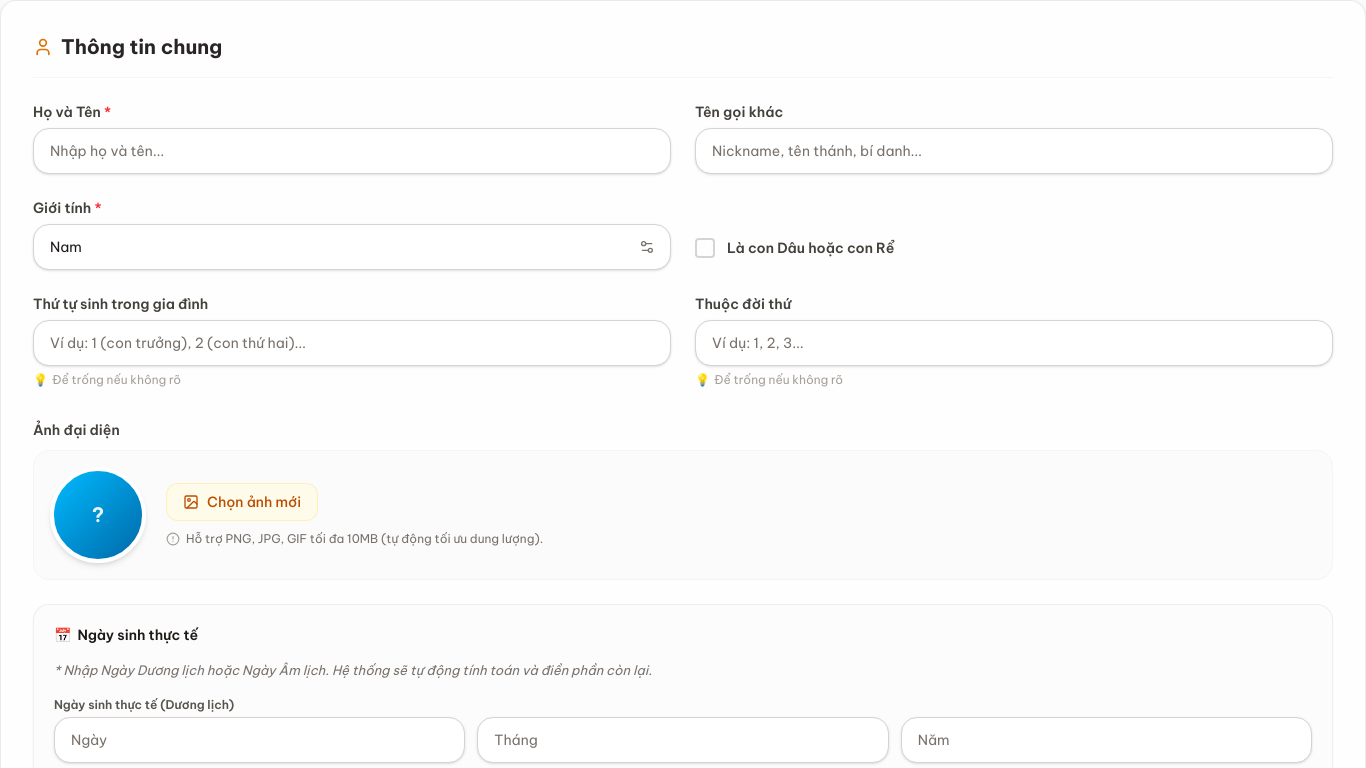
Test: MemberForm › validation › ngày sinh không hợp lệ (ngày 32) → hiện lỗi
The image size is (1366, 768).
Type "Test" into the field with placeholder "Nhập họ và tên..." at (352, 151), box [33,128,671,174]
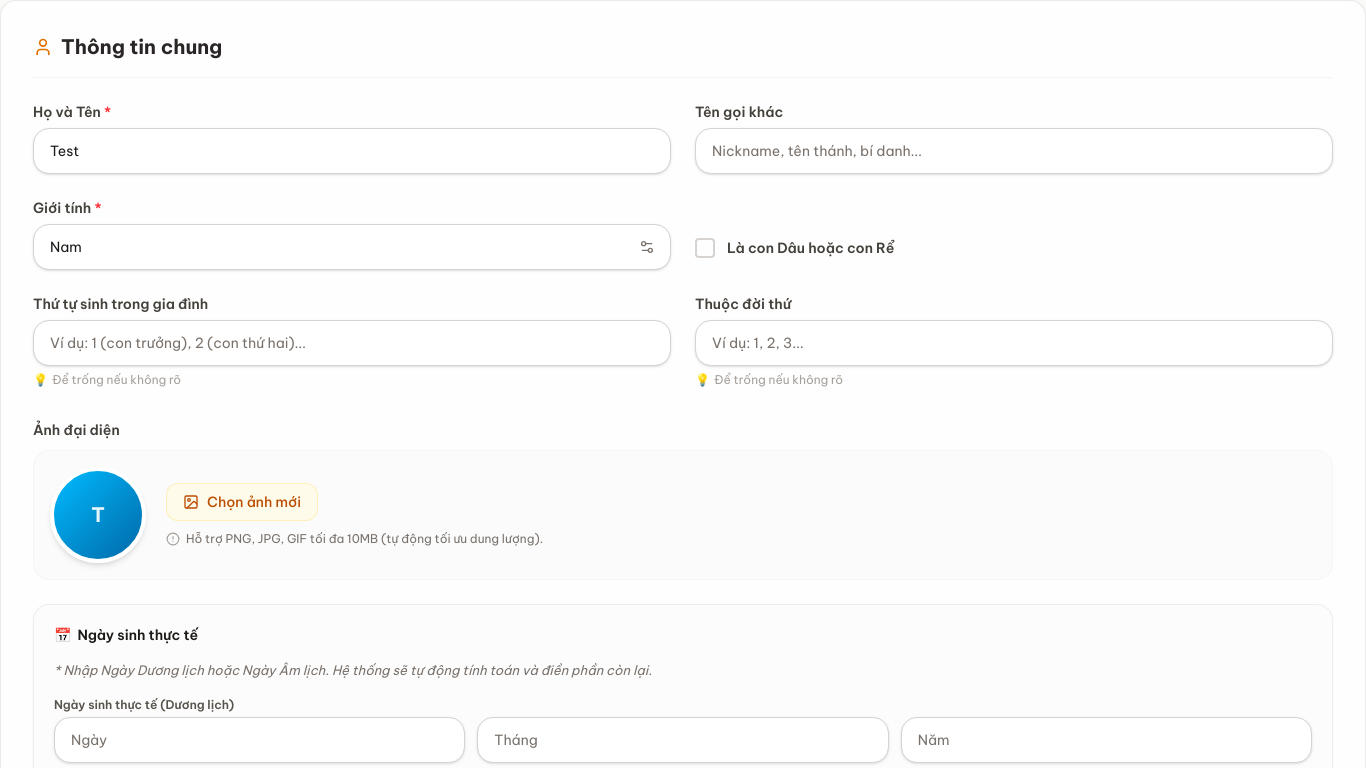
Type "32" into the number field with placeholder "Ngày" at (260, 740), box [54,716,465,762]
(page scrolled)
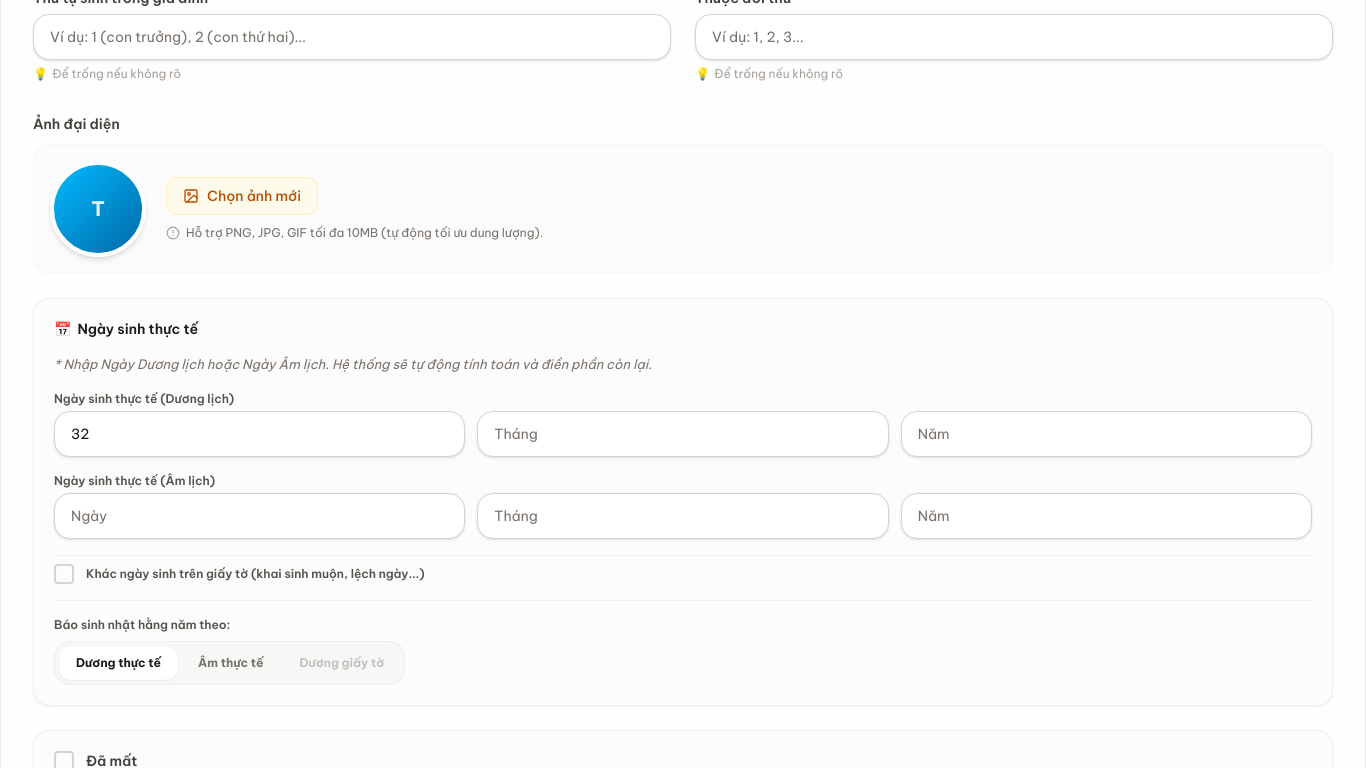
Submit the form
(page scrolled)
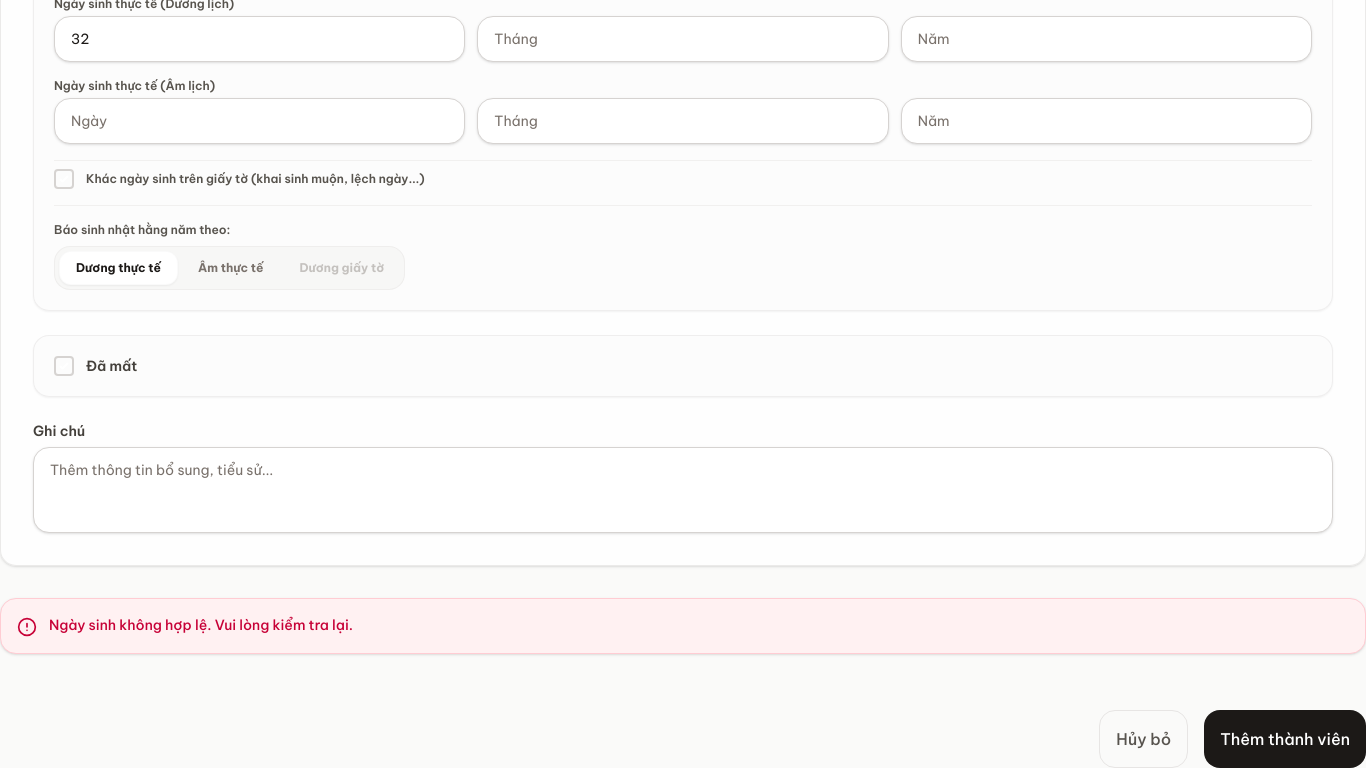
Expected: the text "Ngày sinh không hợp lệ. Vui lòng kiểm tra lại." is shown, [49,614,353,634]
